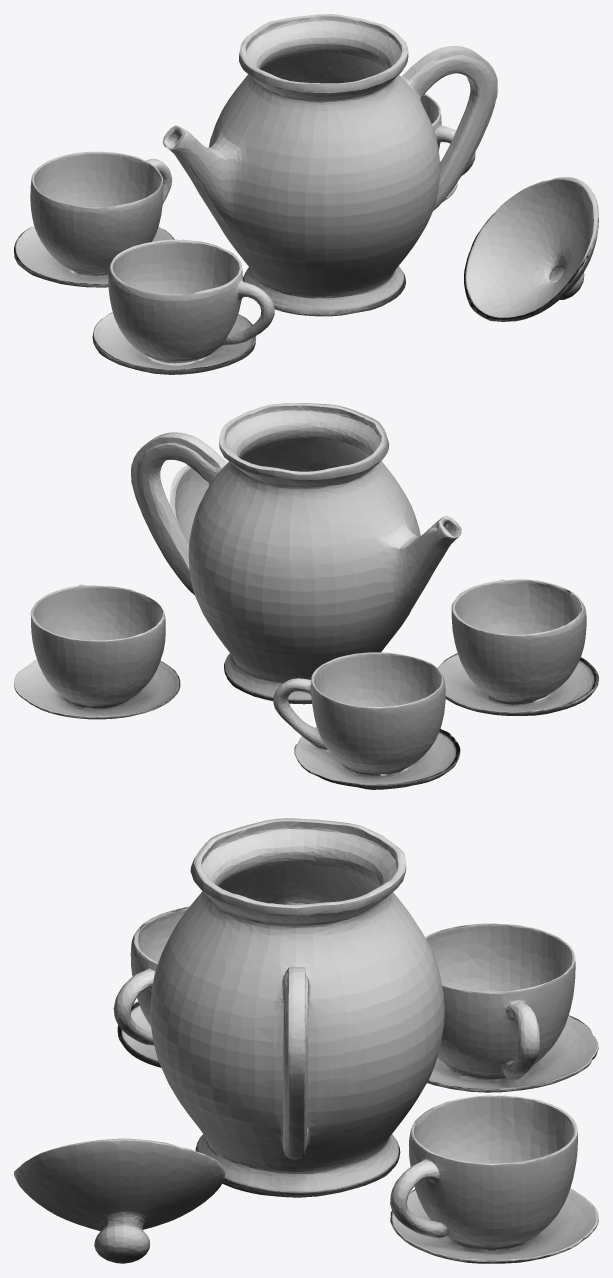
File: condition.glb
3 views of the same model, one above another, from view 1: azimuth 30°, elevation 25°; view 2: azimuth 150°, elevation 25°; view 3: azimuth 270°, elevation 25° (orthographic). The views are drawn at different scales.
Parts seen in each view (by area): view 1: world; view 2: world; view 3: world.
Part boxes in pixels (x1,y1,x2,y2): world: [14, 14, 598, 374]; world: [14, 403, 598, 789]; world: [14, 818, 598, 1263].
Size of the model in its own units: 1 by 0.5105 by 0.8924.
1 material, 1 textured.
